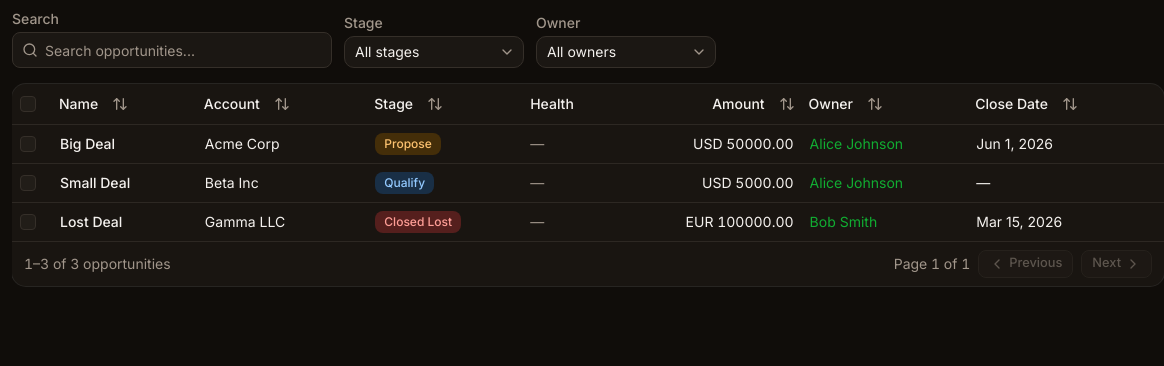
Test: OpportunityListTable › shows bulk action bar when items are selected
The width and height of the screenshot is (1164, 366).
Click the checkbox named "Select row" in the row of "Acme Corp": (28, 144) [20,136,36,152]
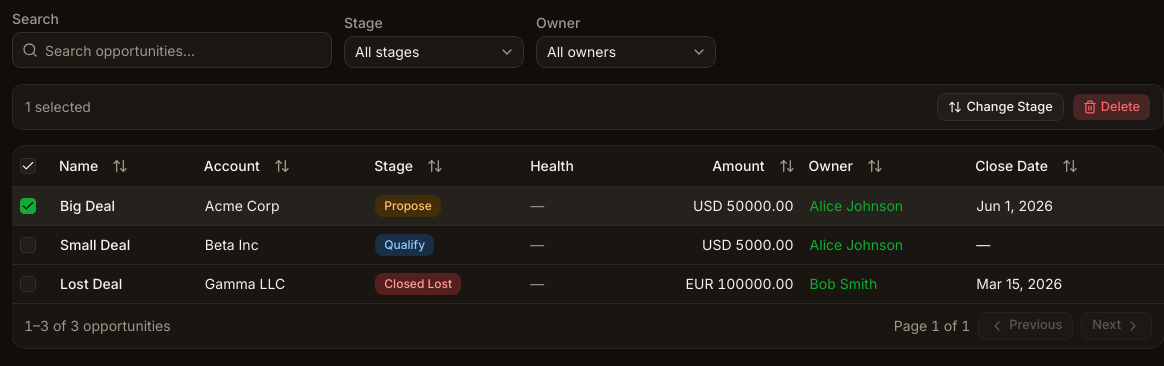
expect the text "1 selected" is shown: met, box [25,97,91,117]
expect the button "Change Stage" is shown: met, box [937,93,1064,121]
expect the button "Delete" is shown: met, box [1072,93,1151,121]
